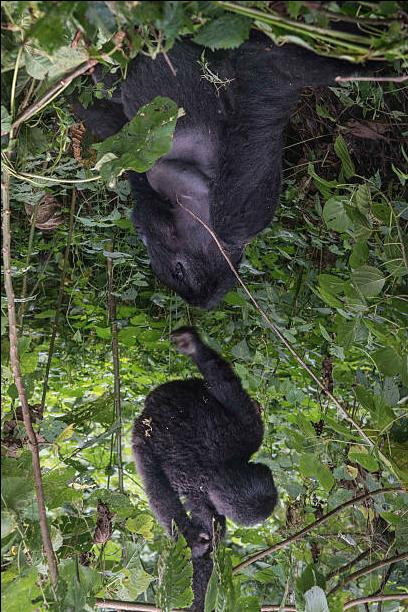goriile_montagne: (95, 36, 288, 312), (112, 319, 296, 526)
